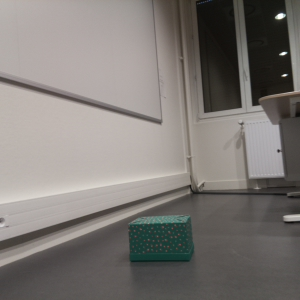small: (126, 214, 198, 264)
